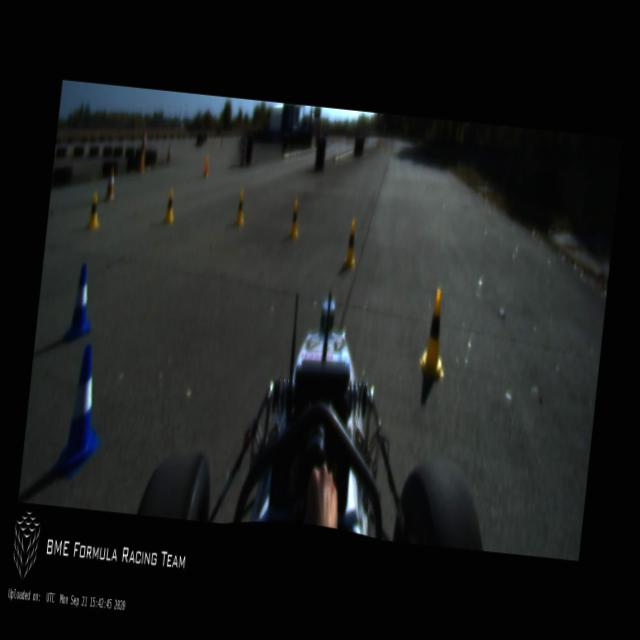blue_cone: (54, 342, 110, 481), (64, 262, 96, 340)
yellow_cone: (418, 288, 452, 377), (343, 218, 359, 268), (288, 198, 301, 239), (86, 191, 100, 229), (162, 188, 176, 223), (234, 190, 246, 225)
